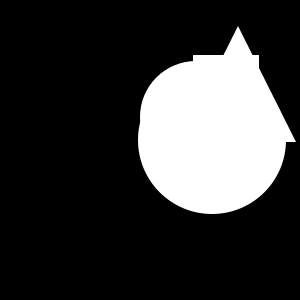circle: (193, 55, 259, 121)
rectangle: (138, 66, 286, 214), (140, 61, 252, 173)
triangle: (180, 26, 296, 142)
